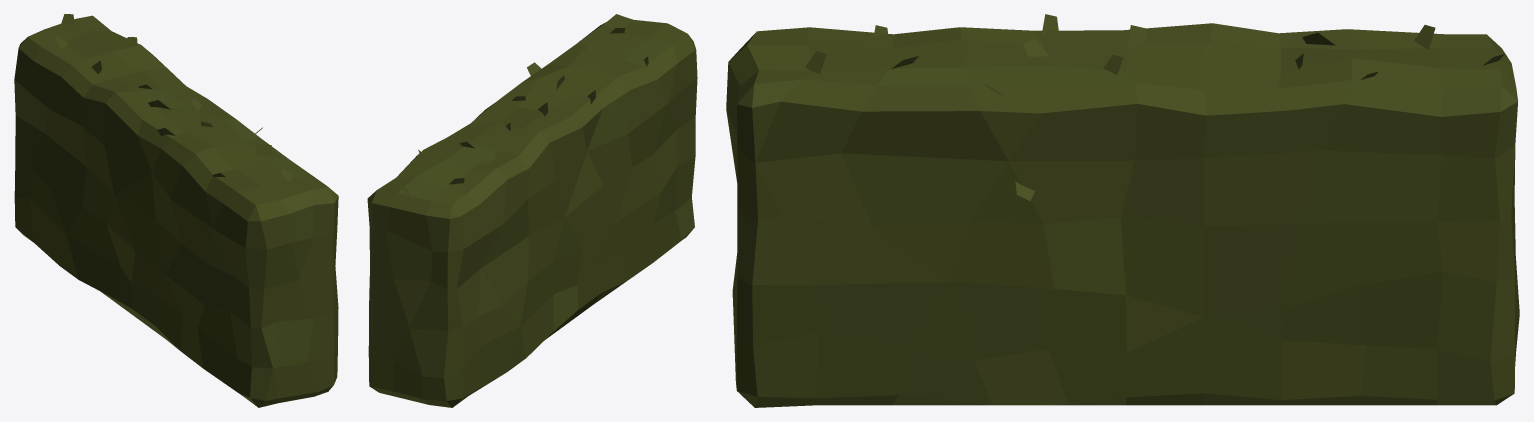
Rendered from hedge_fuzzy.fbx.
3 views of the same model, side by side, from view 1: azimuth 30°, elevation 25°; view 2: azimuth 150°, elevation 25°; view 3: azimuth 270°, elevation 25° (orthographic). The views are drawn at different scales.
Parts seen in each view (by area): view 1: Cube; view 2: Cube; view 3: Cube.
Part boxes in pixels (x1=…): Cube: x1=14, y1=14, x2=338, y2=407; Cube: x1=367, y1=14, x2=697, y2=407; Cube: x1=726, y1=14, x2=1519, y2=407.
Size of the model in its own units: 1.32 by 5.44 by 2.61.
